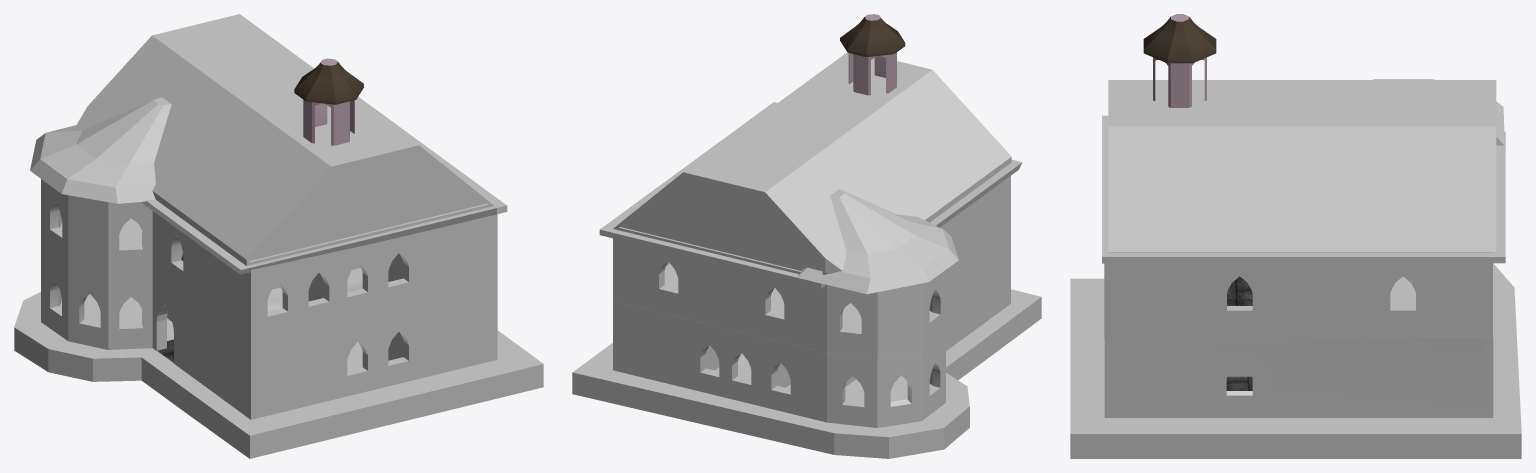
File: House_.fbx
3 renders of one model, left to right at view 1: azimuth 30°, elevation 25°; view 2: azimuth 150°, elevation 25°; view 3: azimuth 270°, elevation 25°, orthographic. The views are drawn at different scales.
Visible parts, largest first — view 1: Cube.007, Cube.004, Cube.010, Plane.002, Cube.003, Cube.012, Plane.001, Cube.009, Cube.005, Plane; view 2: Cube.007, Cube.004, Cube.010, Plane.002, Cube.003, Cube.012, Plane.001, Plane, Cube; view 3: Cube.007, Cube.004, Cube.010, Plane.002, Cube.012, Plane.
Part boxes in pixels (x1,y1,x2,y2): Cube.007: (76,14,507,274); Cube.004: (41,248,497,419); Cube.010: (41,179,497,346); Plane.002: (14,292,543,458); Cube.003: (30,97,171,203); Cube.012: (294,58,363,145); Plane.001: (59,294,173,362); Cube.009: (272,253,403,301); Cube.005: (267,268,362,311); Plane: (60,218,183,260); Cube.007: (599,52,1022,288); Cube.004: (613,235,1010,427); Cube.010: (613,176,1010,358); Plane.002: (572,289,1041,458); Cube.003: (797,189,958,294); Cube.012: (840,14,905,95); Plane.001: (715,353,932,402); Plane: (664,264,932,329); Cube: (706,345,855,387); Cube.007: (1102,80,1505,263); Cube.004: (1104,263,1493,417); Cube.010: (1104,242,1492,337); Plane.002: (1070,263,1521,458); Cube.012: (1143,14,1216,107); Plane: (1227,276,1415,305).
Size of the model in its own units: 1010 by 880 by 1015.
